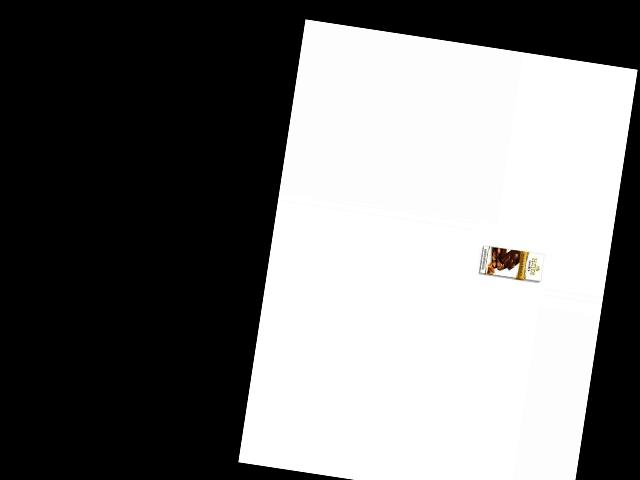chocolate: (478, 238, 549, 289)
